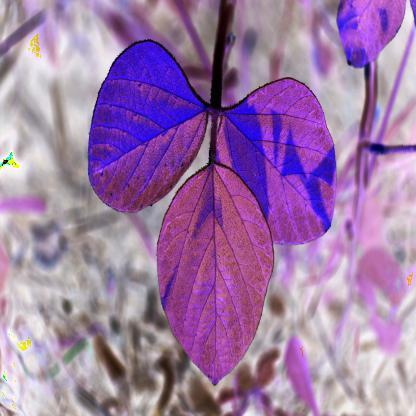Soyabean leaf: (155, 160, 275, 390), (85, 38, 210, 213), (216, 73, 338, 245)
